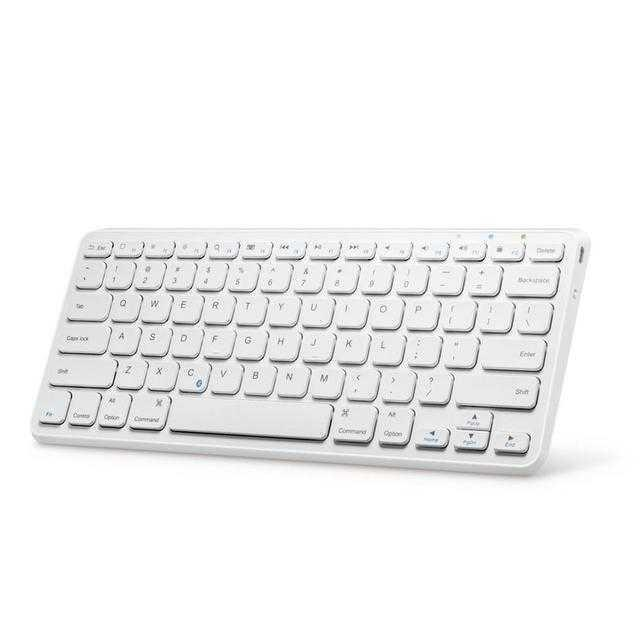keyboard: (27, 223, 594, 482)
